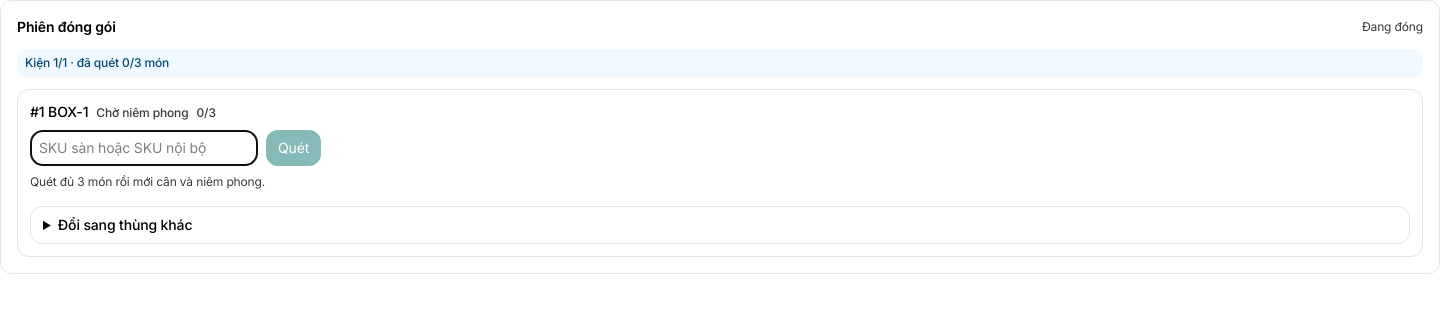
PackingSessionPanel › AC2 — súng quét gửi mã + Enter → ghi nhận món, báo số món còn lại, ô quét giữ focus
The width and height of the screenshot is (1440, 315).
Type "AO-M-01" into the field with placeholder "SKU sàn hoặc SKU nội bộ". click: (144, 148)
box: [30, 130, 258, 166]
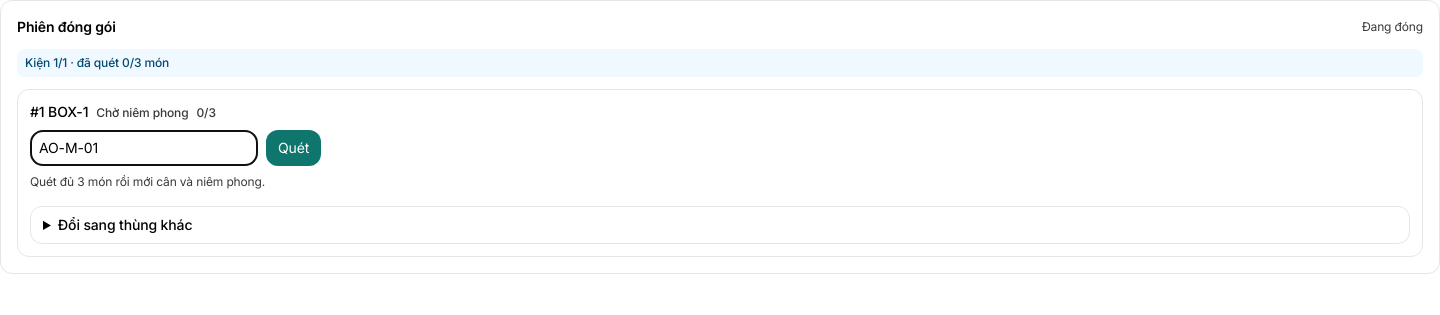
Submit the form with placeholder "SKU sàn hoặc SKU nội bộ", box [30, 130, 321, 166]
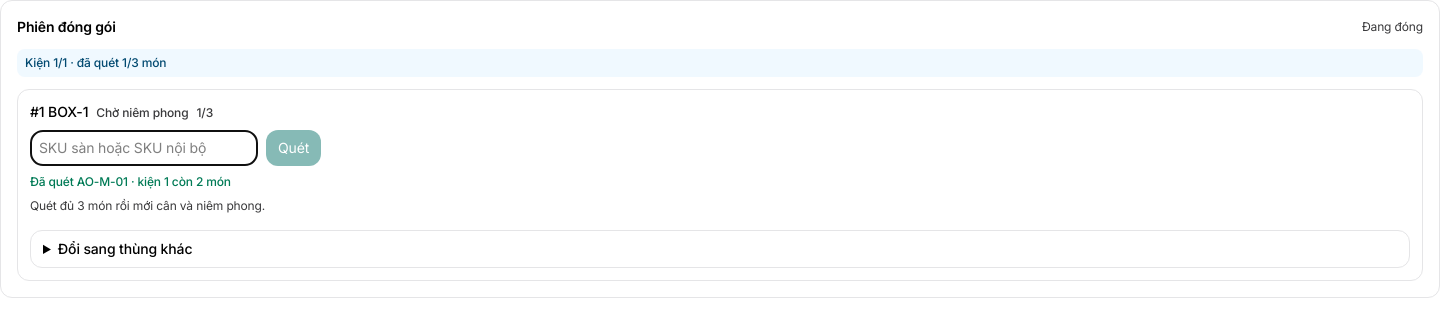
Now the text "Đã quét AO-M-01 · kiện 1 còn 2 món" is shown, box [30, 174, 231, 189]
Now the field with placeholder "SKU sàn hoặc SKU nội bộ" is empty, box [30, 130, 258, 166]
